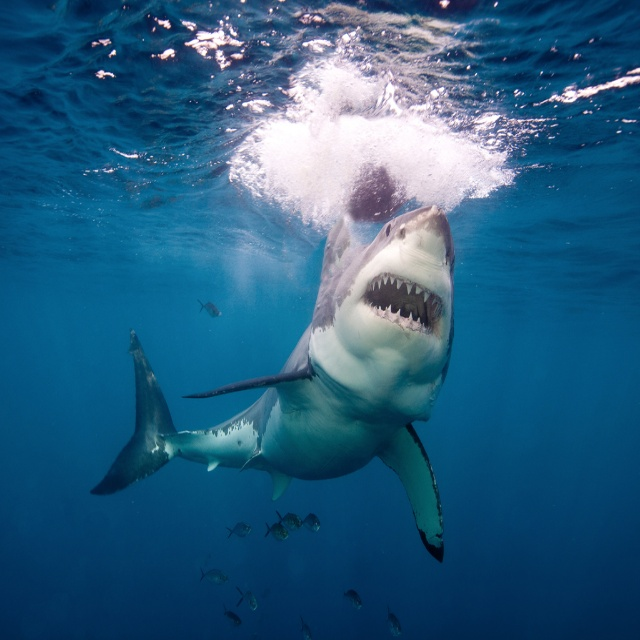Shark: (96, 208, 457, 559)
